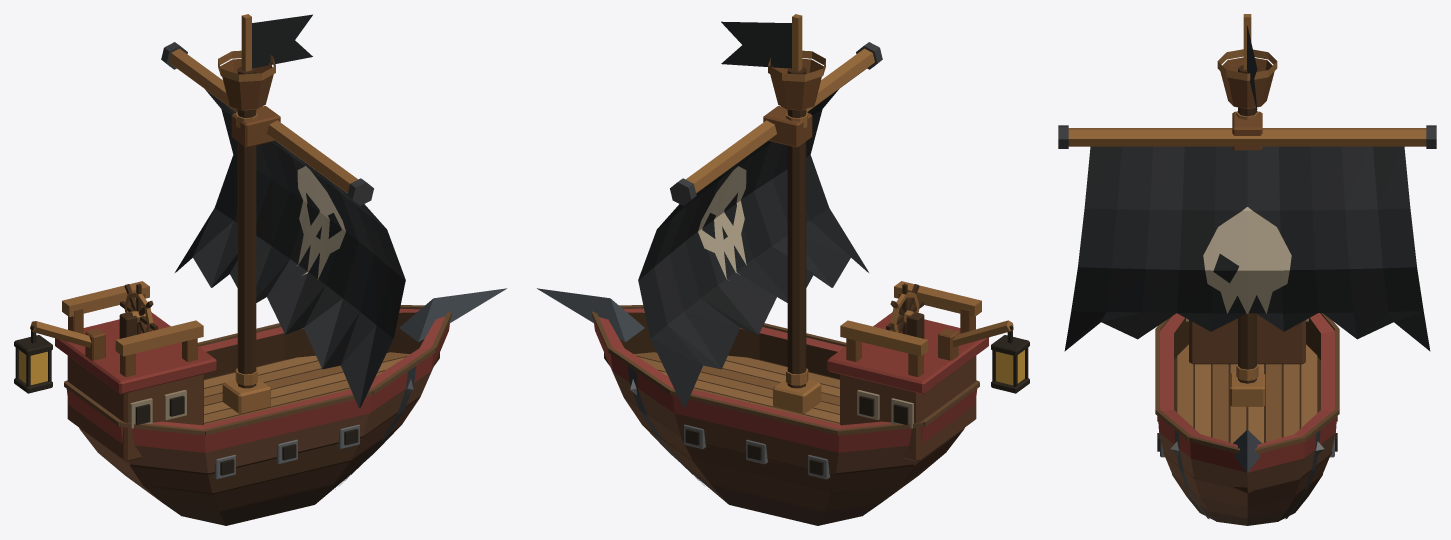
File: pirate_ship.glb
The picture shows the model from 3 angles, left to right: view 1: azimuth 30°, elevation 25°; view 2: azimuth 150°, elevation 25°; view 3: azimuth 270°, elevation 25°; orthographic projection.
Visible parts, largest first — view 1: pirate_ship; view 2: pirate_ship; view 3: pirate_ship.
Boxes of the visible parts, left/top/right/bottom form: pirate_ship: left=14, top=14, right=506, bottom=525; pirate_ship: left=537, top=14, right=1029, bottom=525; pirate_ship: left=1058, top=14, right=1436, bottom=525.
Size of the model in its own units: 0.5032 by 0.4752 by 0.3424.
